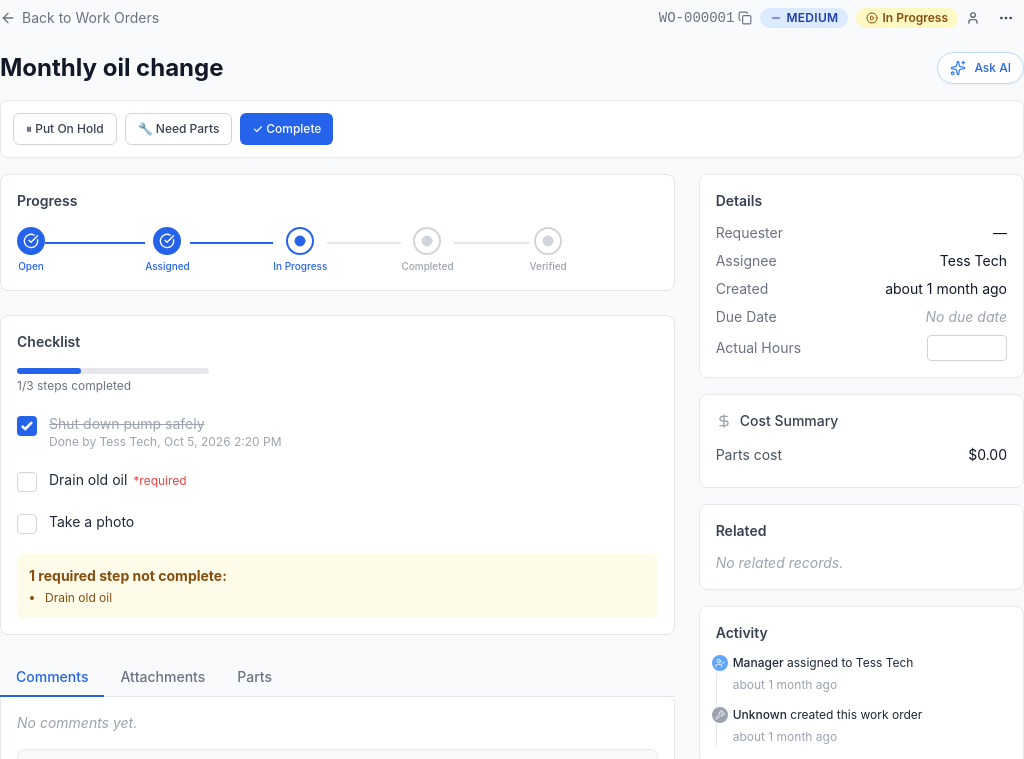
Test case: the checklist on a work order › keeps a tick made without a connection, shows it as waiting, and sends only that step later
The image size is (1024, 759).
Click the checkbox labelled "Drain old oil" at (27, 482), box [17, 472, 37, 492]
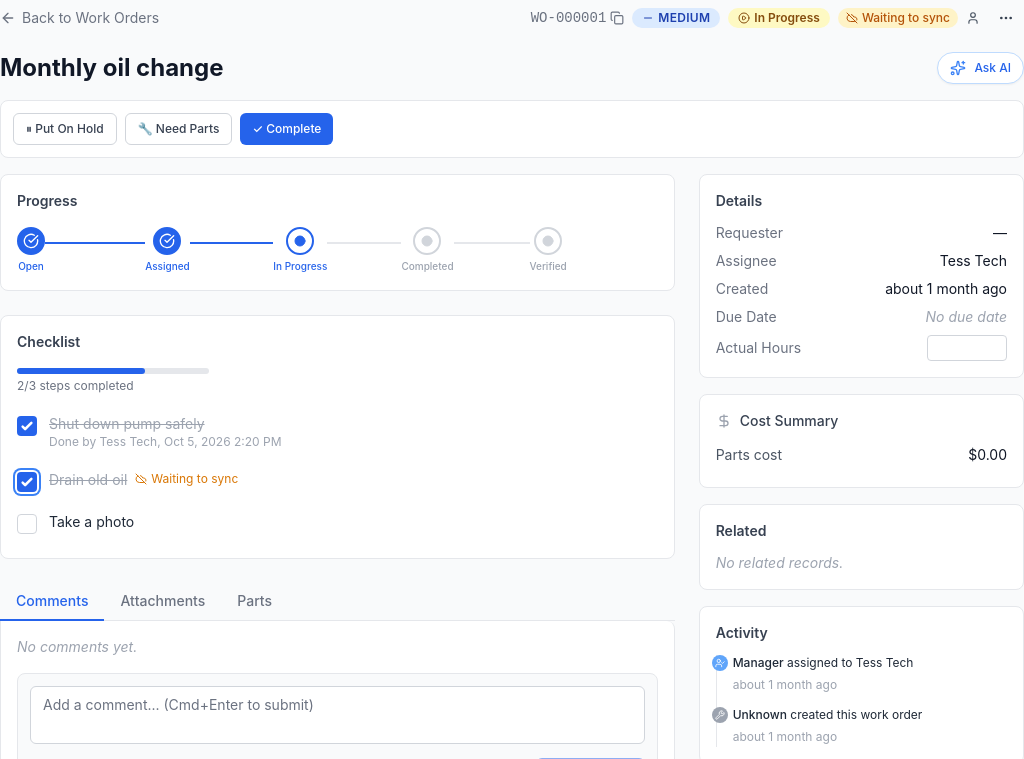
Now the checkbox labelled "Drain old oil" is checked, box [17, 472, 37, 492]
Now the text "Waiting to sync" next to "Drain old oil" is shown, box [151, 471, 238, 486]
Now the text "2/3 steps completed" is shown, box [17, 378, 134, 393]
